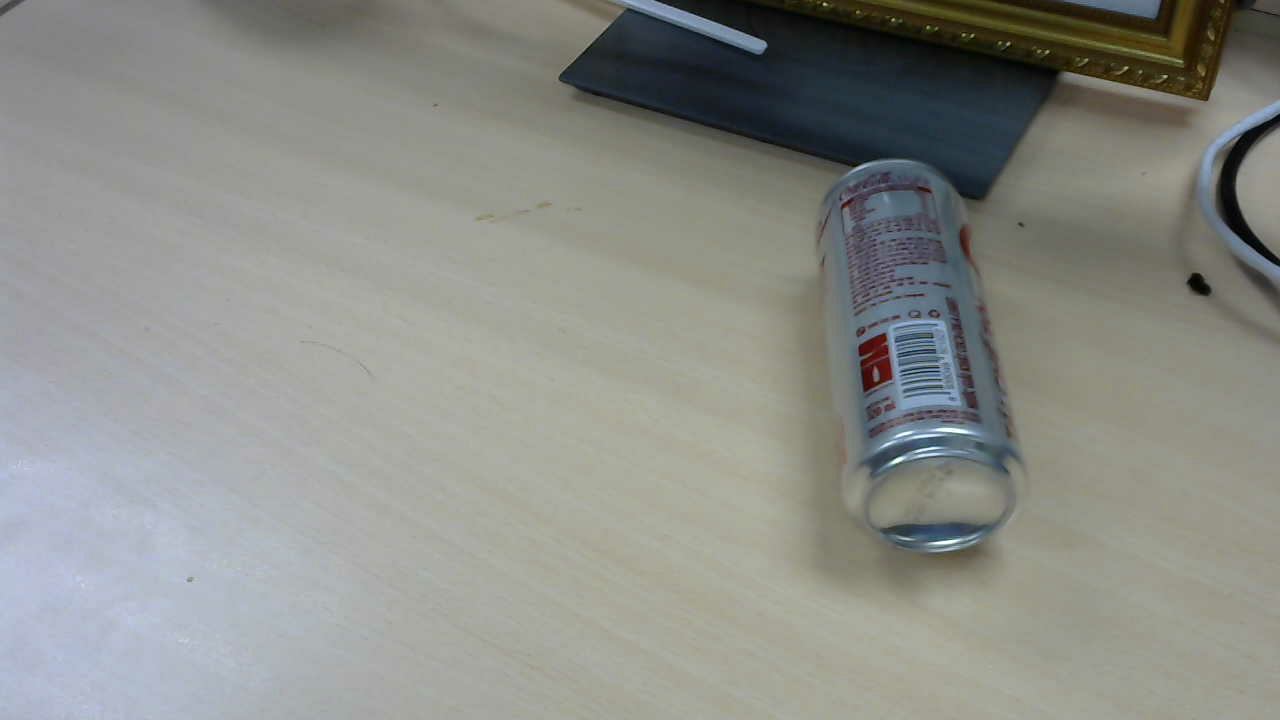Coca_Cola: (812, 164, 1041, 565)
